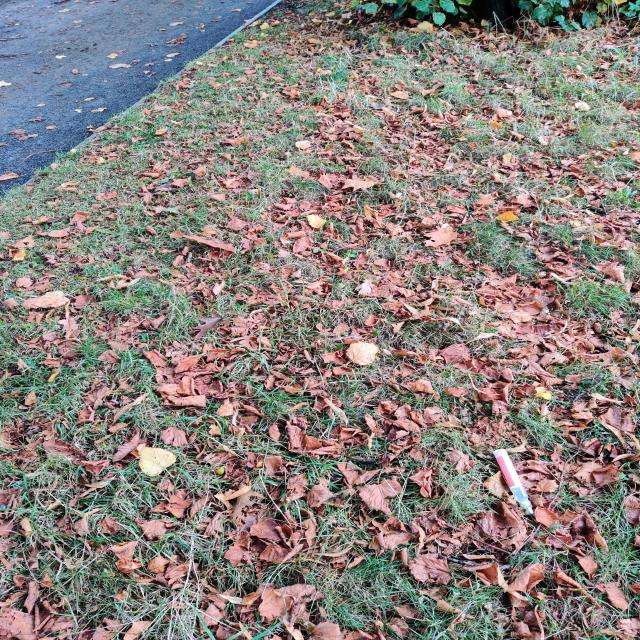litter: (492, 449, 533, 516)
